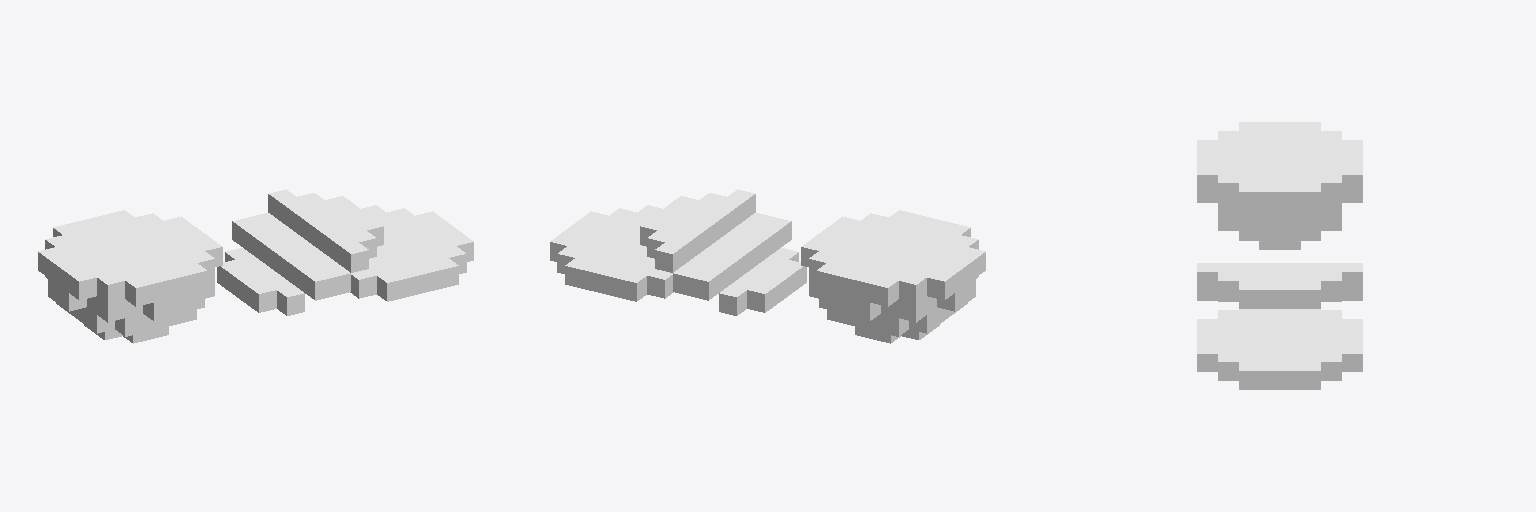
The model's file is 6_Chopping.obj.
3 views of the same model, side by side, from view 1: azimuth 30°, elevation 25°; view 2: azimuth 150°, elevation 25°; view 3: azimuth 270°, elevation 25° (orthographic).
Parts seen in each view (by area): view 1: object 1; view 2: object 1; view 3: object 1.
Boxes of the visible parts, x1,y1,x2,y2 form: object 1: [38, 189, 473, 343]; object 1: [550, 189, 985, 343]; object 1: [1197, 122, 1362, 389].
Bounding box in the file's own units: 2.2 × 0.4 × 0.8.